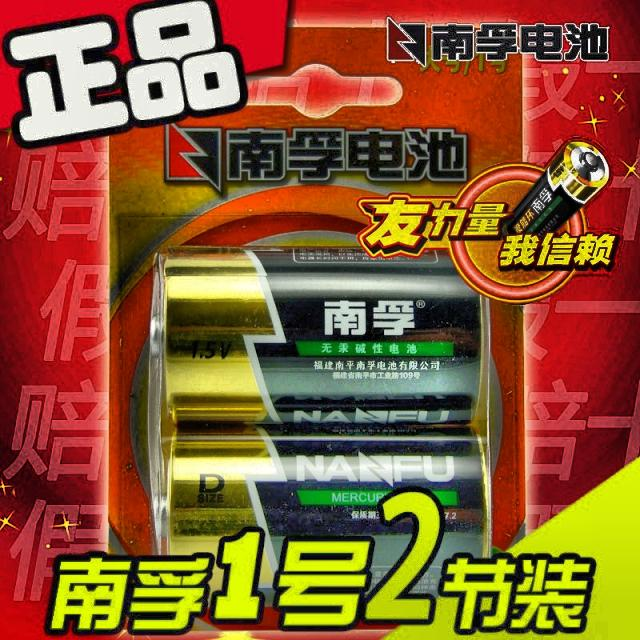Non-Valuable Waste - Batteries: (145, 248, 496, 629)
